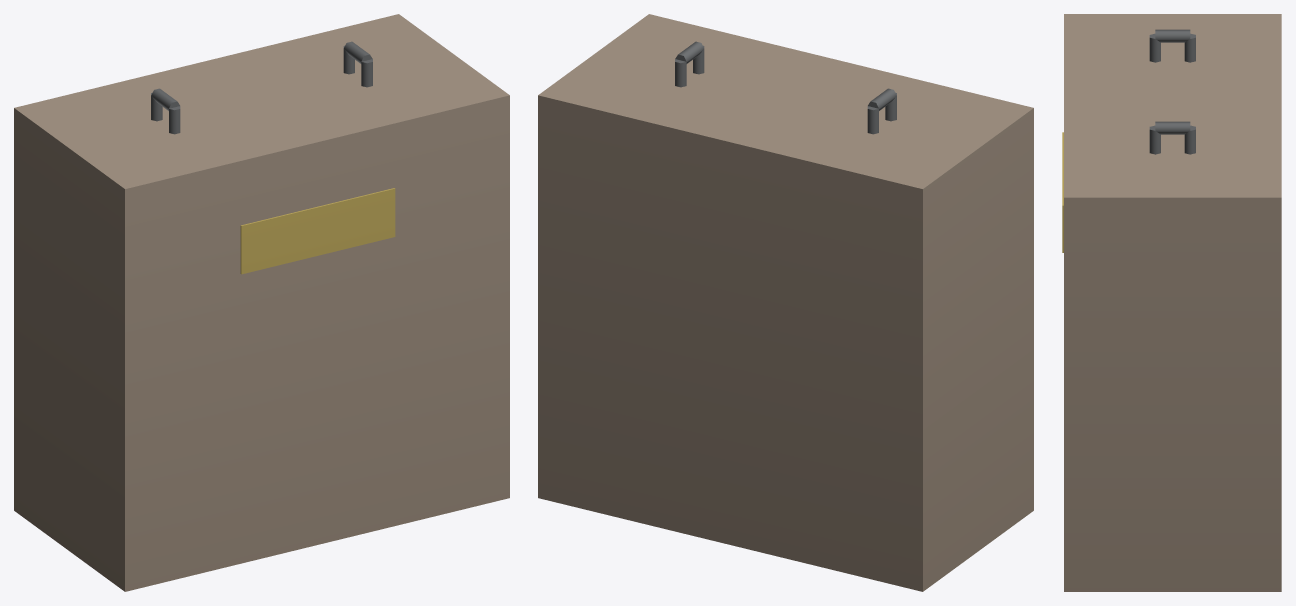
The model's file is shieldBlock_regocrete.glb.
The picture shows the model from 3 angles, left to right: view 1: azimuth 30°, elevation 25°; view 2: azimuth 150°, elevation 25°; view 3: azimuth 270°, elevation 25°; orthographic projection. The views are drawn at different scales.
Parts seen in each view (by area): view 1: shieldBlock_regocrete; view 2: shieldBlock_regocrete; view 3: shieldBlock_regocrete.
Part boxes in pixels (x1,y1,x2,y2): shieldBlock_regocrete: [14, 14, 509, 591]; shieldBlock_regocrete: [538, 14, 1033, 591]; shieldBlock_regocrete: [1062, 14, 1281, 591].
Size of the model in its own units: 1 by 1.07 by 0.504.
